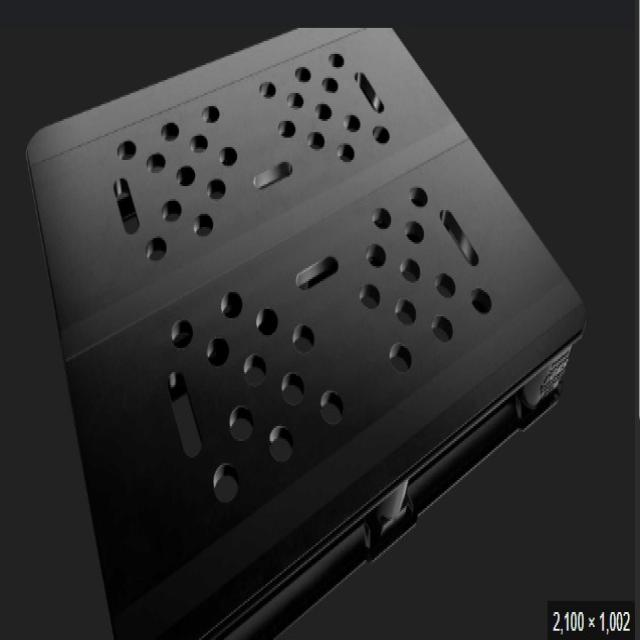igps: (20, 17, 589, 640)
